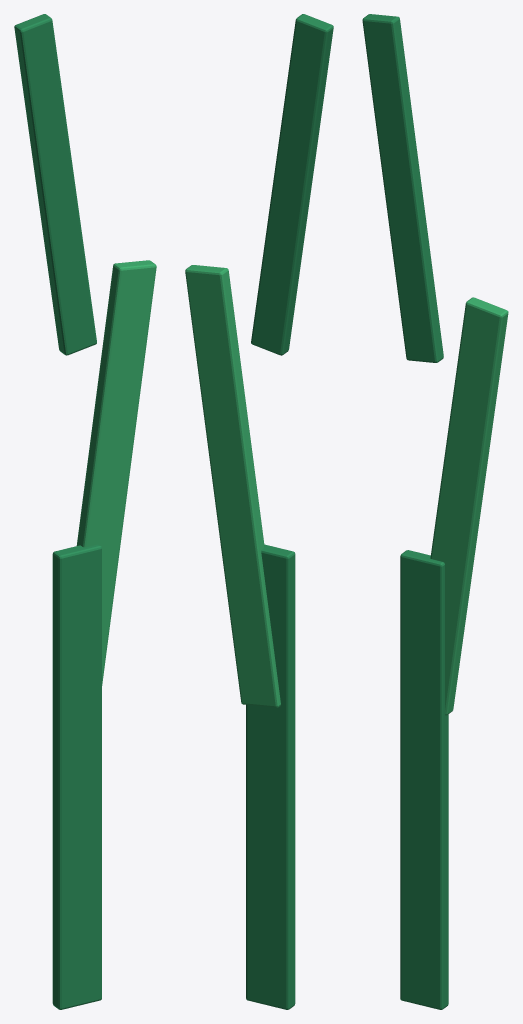
File: Scuba_Kelp.fbx
3 renders of one model, left to right at view 1: azimuth 30°, elevation 25°; view 2: azimuth 150°, elevation 25°; view 3: azimuth 330°, elevation 25°, orthographic.
Parts seen in each view (by area): view 1: Kelp; view 2: Kelp; view 3: Kelp.
Boxes of the visible parts, bbox=[...] form: Kelp: bbox=[14, 14, 156, 1009]; Kelp: bbox=[185, 14, 333, 1009]; Kelp: bbox=[362, 14, 508, 1009].
Size of the model in its own units: 0.5144 by 3.5 by 0.07.
